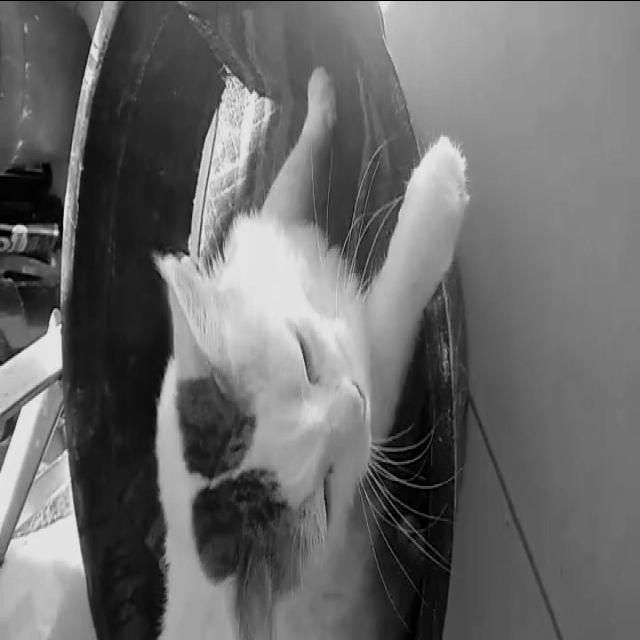Simba: (137, 61, 484, 634)
